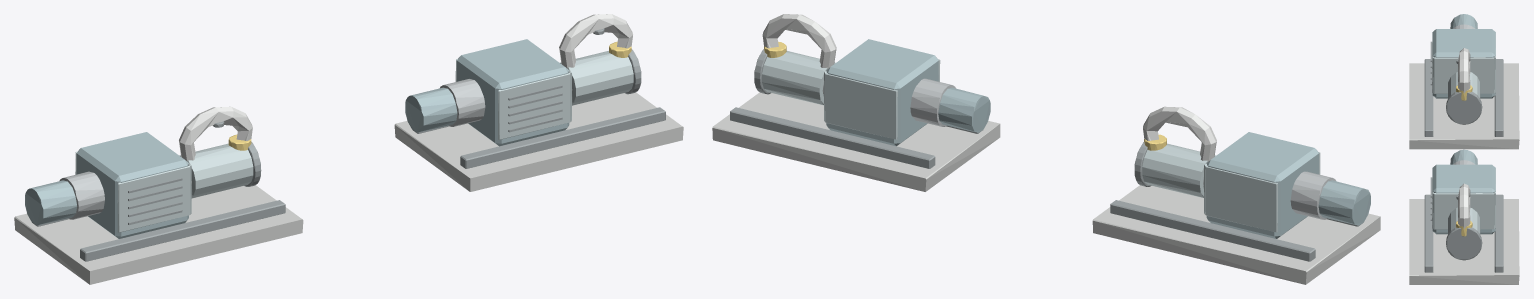
3 renders of one model, left to right at view 1: azimuth 30°, elevation 25°; view 2: azimuth 150°, elevation 25°; view 3: azimuth 270°, elevation 25°, orthographic. The views are drawn at different scales.
Visible parts, largest first — view 1: render-batch-5, render-batch-2, render-batch-4, render-batch-1, render-batch-6, render-batch-3, render-batch-7; view 2: render-batch-5, render-batch-2, render-batch-4, render-batch-1, render-batch-6, render-batch-3, render-batch-7; view 3: render-batch-5, render-batch-1, render-batch-2, render-batch-4, render-batch-6, render-batch-7, render-batch-3.
Part boxes in pixels (x1,y1,x2,y2): render-batch-5: (14,92,683,284); render-batch-2: (25,39,569,238); render-batch-4: (75,51,633,232); render-batch-1: (32,28,665,261); render-batch-6: (179,14,632,161); render-batch-3: (59,79,485,219); render-batch-7: (228,41,631,150); render-batch-5: (712,92,1380,284); render-batch-2: (826,39,1370,238); render-batch-4: (762,51,1320,232); render-batch-1: (730,49,1363,261); render-batch-6: (762,14,1216,161); render-batch-3: (910,78,1335,219); render-batch-7: (764,41,1166,150); render-batch-5: (1409,63,1519,284); render-batch-1: (1424,41,1503,272); render-batch-2: (1432,14,1495,234); render-batch-4: (1432,32,1495,234); render-batch-6: (1458,48,1470,228); render-batch-7: (1456,85,1472,236); render-batch-3: (1453,24,1474,164).
Size of the model in its own units: 17.73 by 3.05 by 3.78.
